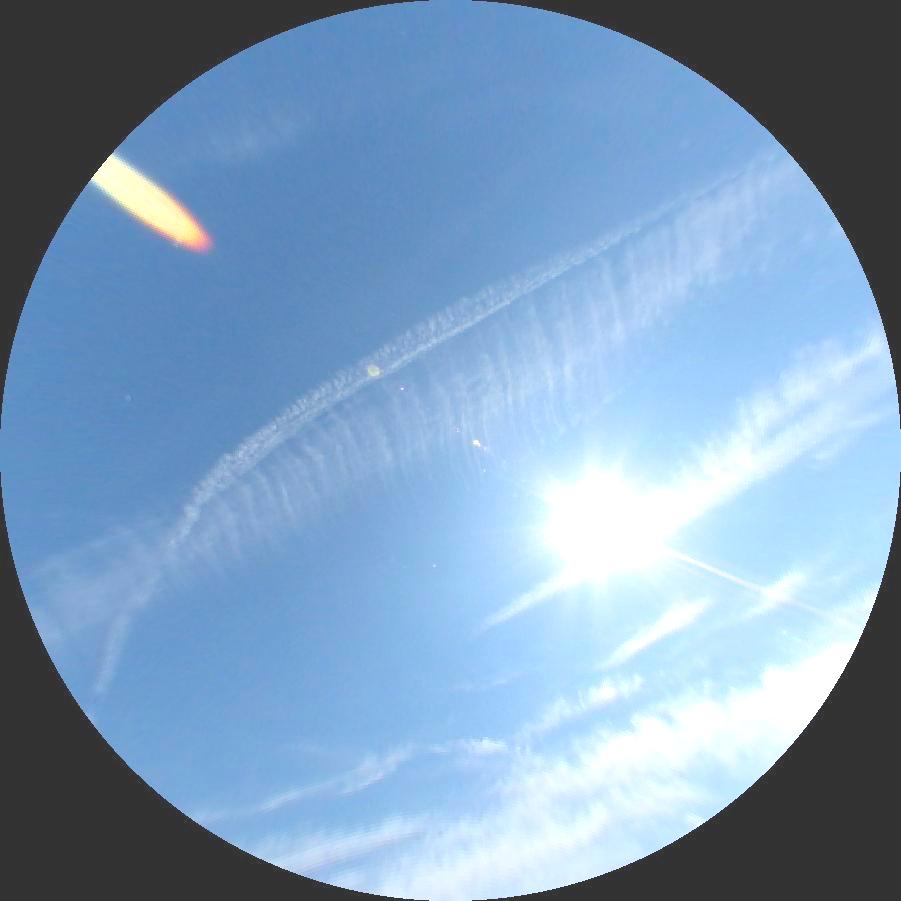contrail old: (13, 54, 787, 725)
contrail veryold: (7, 146, 867, 704), (454, 299, 901, 671)
parasite: (641, 539, 864, 633)
sun: (556, 476, 658, 578)
